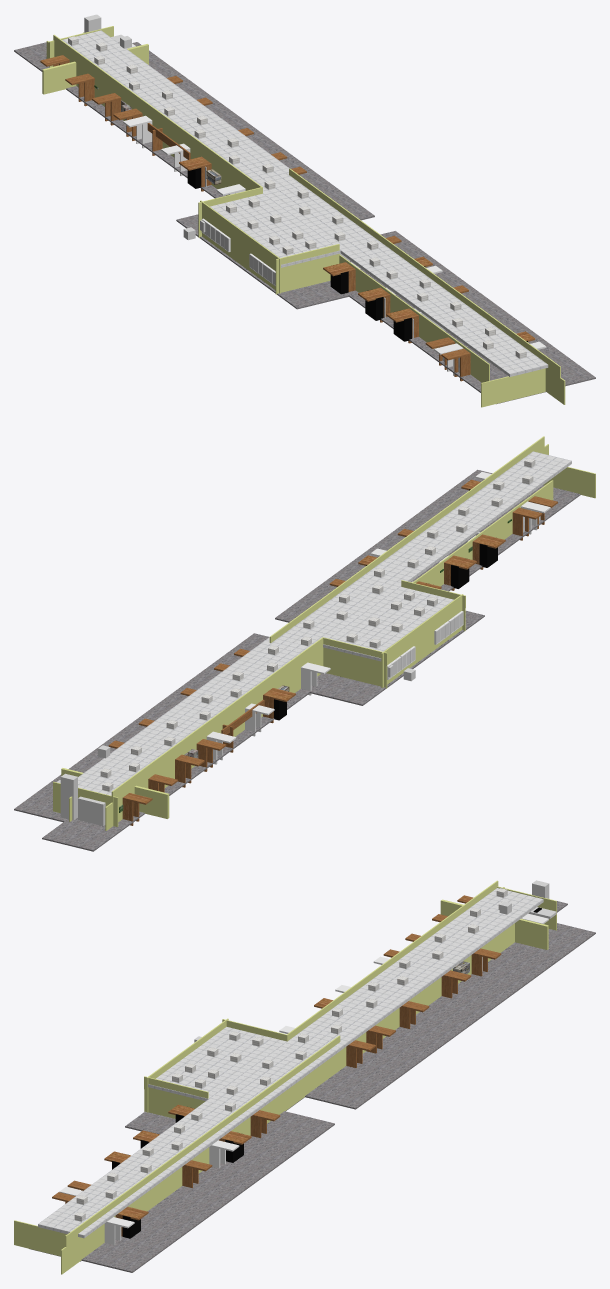
The model's file is korpusBBB.fbx.
3 renders of one model, top to bottom at view 1: azimuth 30°, elevation 25°; view 2: azimuth 150°, elevation 25°; view 3: azimuth 330°, elevation 25°, orthographic.
Visible parts, largest first — view 1: Cube.324, Cube.265, Cube.292, Cube.089, Cube.119, Cube.444, Cube.330, Cube.420, Cube.094, Cube.424, Cube.321, Cube.326 (+6 smaller); view 2: Cube.324, Cube.292, Cube.239, Cube.139, Cube.328, Cube.444, Cube.420, Cube.265, Cube.089, Cube.315, Cube.094, Cube.056 (+9 smaller); view 3: Cube.321, Cube.422, Cube.424, Cube.007, Cube.318, Cube.316, Cube.423, Cube.319, Cube.320, Cube.421, Cube.315, Cube.089 (+12 smaller).
Boxes of the visible parts, left/top/right/bottom form: Cube.324: left=200, top=200, right=280, bottom=293; Cube.265: left=53, top=34, right=201, bottom=153; Cube.292: left=126, top=88, right=262, bottom=193; Cube.089: left=481, top=368, right=545, bottom=407; Cube.119: left=275, top=254, right=339, bottom=294; Cube.444: left=424, top=267, right=560, bottom=378; Cube.330: left=257, top=278, right=351, bottom=309; Cube.420: left=289, top=168, right=424, bottom=273; Cube.094: left=42, top=61, right=76, bottom=94; Cube.424: left=541, top=348, right=595, bottom=386; Cube.321: left=320, top=186, right=374, bottom=220; Cube.326: left=275, top=244, right=339, bottom=271; Cube.324: left=381, top=594, right=463, bottom=688; Cube.292: left=186, top=637, right=323, bottom=749; Cube.239: left=42, top=817, right=133, bottom=851; Cube.139: left=323, top=649, right=387, bottom=688; Cube.328: left=307, top=674, right=403, bottom=705; Cube.444: left=407, top=436, right=544, bottom=542; Cube.420: left=269, top=536, right=407, bottom=642; Cube.265: left=111, top=682, right=261, bottom=802; Cube.089: left=543, top=467, right=595, bottom=498; Cube.315: left=14, top=779, right=67, bottom=822; Cube.094: left=134, top=785, right=169, bottom=818; Cube.056: left=53, top=781, right=118, bottom=826; Cube.321: left=305, top=1066, right=396, bottom=1109; Cube.422: left=163, top=1171, right=254, bottom=1213; Cube.424: left=81, top=1233, right=173, bottom=1272; Cube.007: left=246, top=1111, right=334, bottom=1153; Cube.318: left=385, top=1008, right=475, bottom=1050; Cube.316: left=467, top=950, right=555, bottom=991; Cube.423: left=138, top=1200, right=213, bottom=1242; Cube.319: left=428, top=980, right=516, bottom=1021; Cube.320: left=346, top=1037, right=436, bottom=1079; Cube.421: left=207, top=1141, right=294, bottom=1183; Cube.315: left=505, top=923, right=595, bottom=963; Cube.089: left=14, top=1220, right=66, bottom=1256.
Size of the model in its own units: 4531 by 1455 by 22652.
